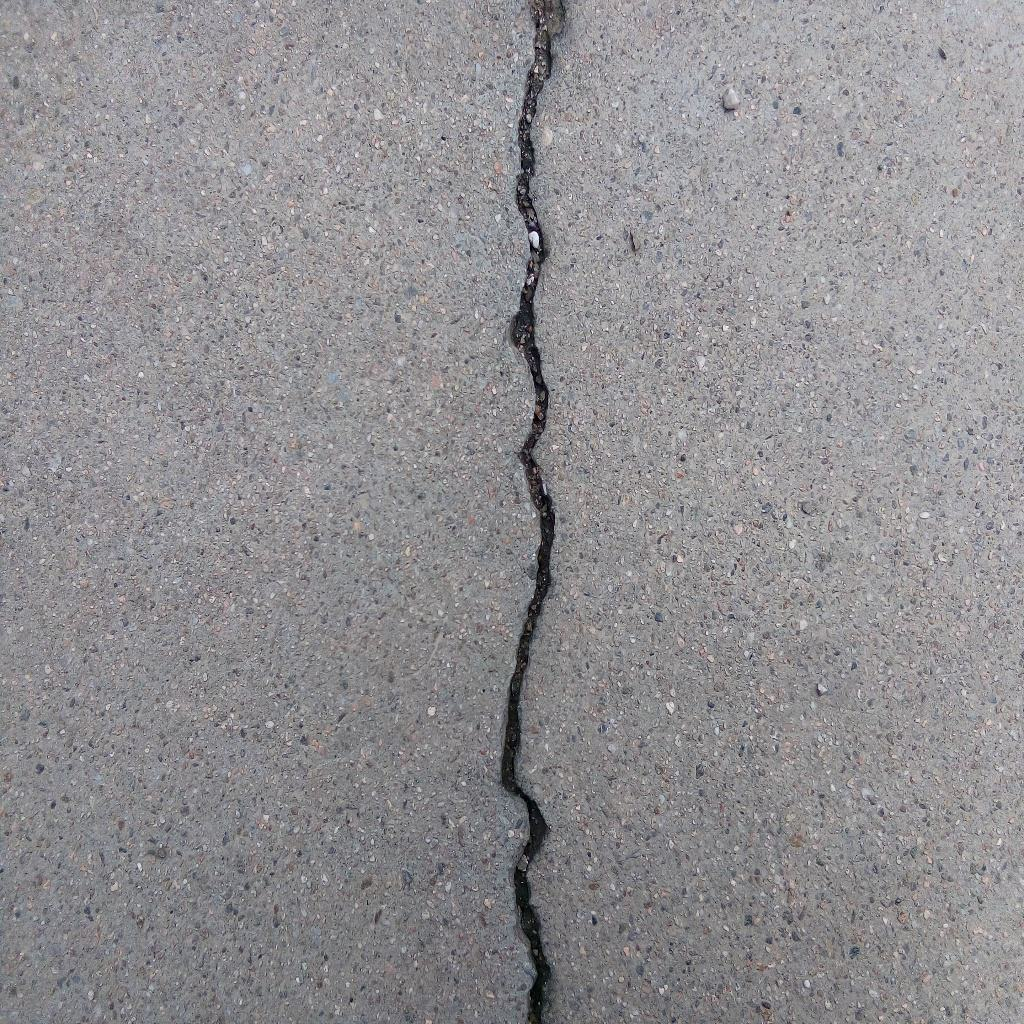Crack: (497, 1, 565, 1024)
